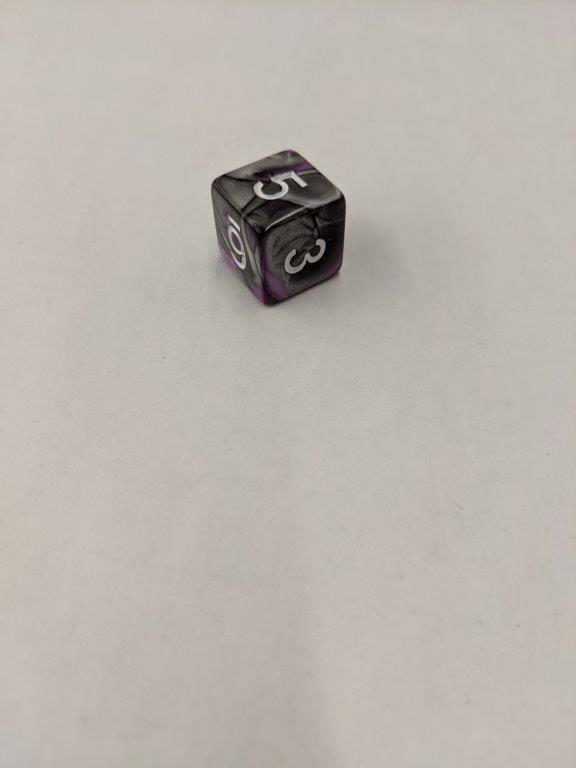d6-5: (208, 149, 346, 308)
